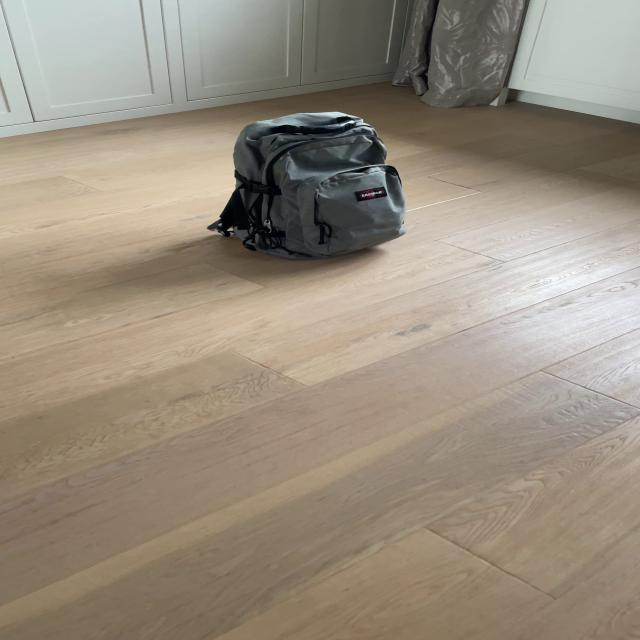backpack: (207, 105, 414, 266)
